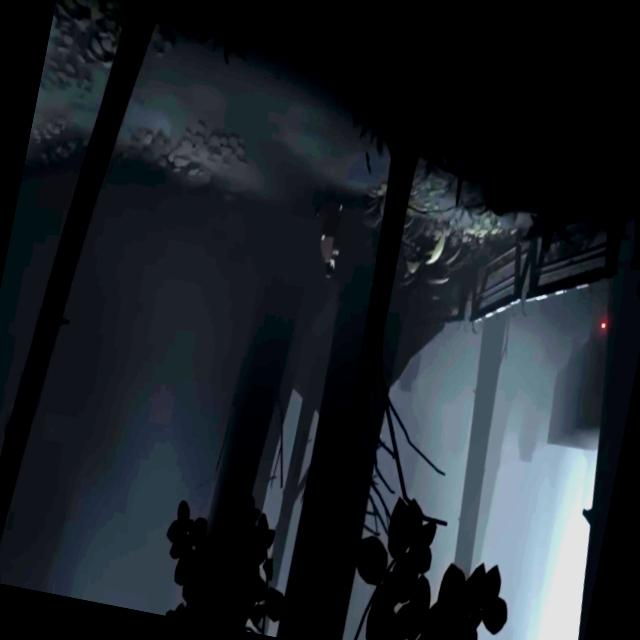boy: (314, 190, 350, 279)
